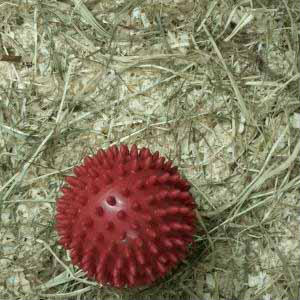ball: (53, 145, 198, 290)
